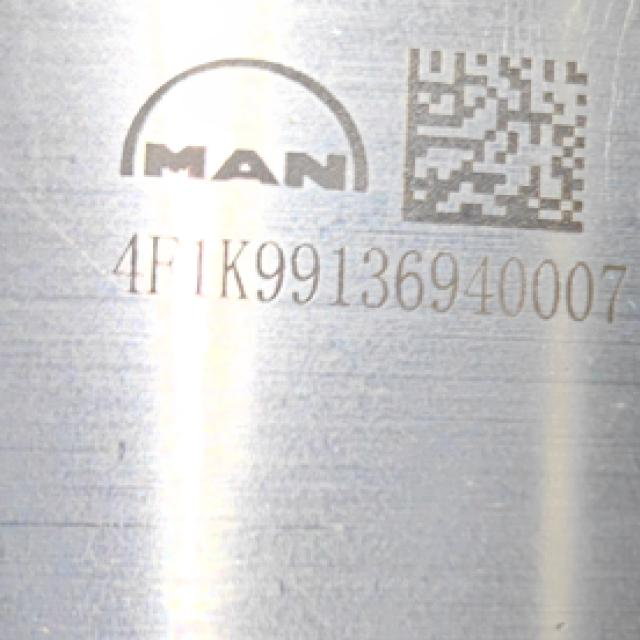dmc: (402, 48, 588, 233)
